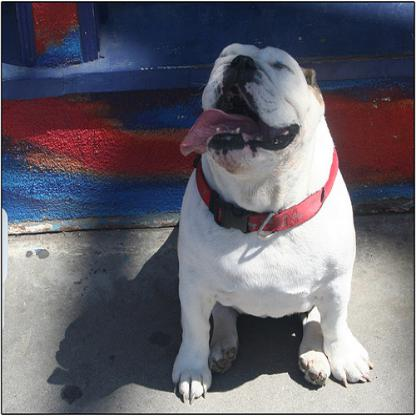dog: (172, 39, 374, 404)
